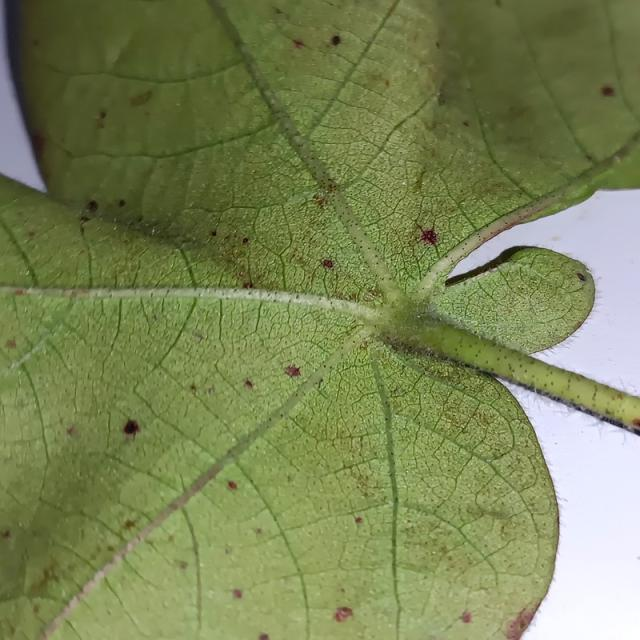Bacterial_Blight: (30, 564, 60, 594), (506, 607, 536, 636), (122, 412, 148, 441), (353, 473, 381, 498), (415, 224, 441, 247), (78, 200, 100, 227), (360, 284, 385, 303), (31, 130, 47, 158), (341, 289, 370, 304), (129, 89, 153, 107), (187, 382, 217, 396), (368, 71, 389, 89), (333, 607, 354, 623), (572, 317, 589, 335), (412, 171, 425, 193), (283, 364, 302, 379), (95, 109, 107, 128), (324, 178, 338, 193), (459, 610, 473, 624), (601, 84, 616, 97), (626, 416, 639, 431), (123, 519, 137, 530), (315, 197, 327, 208), (227, 479, 238, 491), (5, 338, 17, 349), (66, 425, 77, 436), (232, 589, 243, 600), (330, 35, 341, 46), (293, 39, 305, 49), (322, 259, 334, 269), (193, 331, 205, 341), (555, 509, 561, 528), (244, 379, 254, 390), (178, 560, 188, 570), (79, 216, 90, 225), (612, 392, 623, 401), (1, 529, 11, 538), (359, 341, 369, 350), (577, 272, 586, 282), (585, 154, 595, 163), (242, 281, 252, 289), (224, 545, 232, 555), (253, 527, 262, 535), (354, 516, 363, 524), (70, 290, 79, 298), (118, 199, 126, 208), (33, 604, 40, 614), (189, 384, 197, 392), (14, 289, 23, 296), (242, 237, 249, 245), (107, 545, 115, 552), (462, 120, 470, 127), (167, 534, 174, 542), (237, 271, 244, 279), (635, 418, 640, 428), (210, 230, 217, 237), (28, 231, 35, 238), (258, 636, 269, 640), (340, 587, 346, 594)
Cotton: (0, 0, 639, 639)
